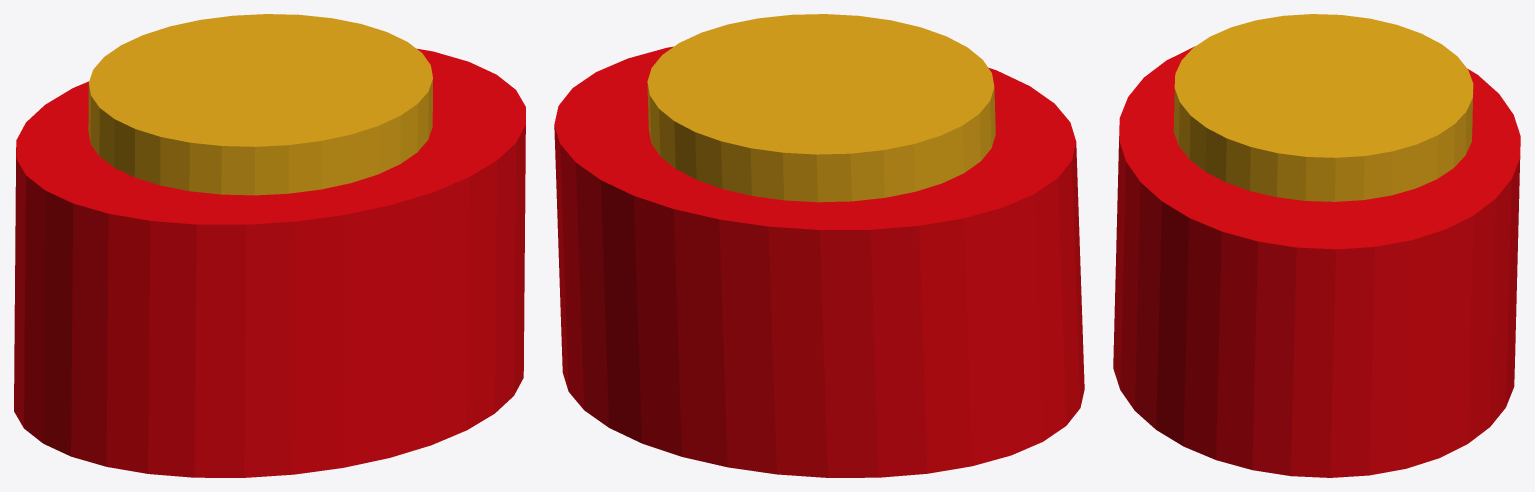
Rendered from sausModel.gltf.
3 views of the same model, side by side, from view 1: azimuth 30°, elevation 25°; view 2: azimuth 150°, elevation 25°; view 3: azimuth 270°, elevation 25° (orthographic). The views are drawn at different scales.
Parts seen in each view (by area): view 1: Cylinder, Cylinder.002; view 2: Cylinder, Cylinder.002; view 3: Cylinder, Cylinder.002.
Boxes of the visible parts, x1,y1,x2,y2 form: Cylinder: (14, 48, 525, 477); Cylinder.002: (88, 14, 432, 195); Cylinder: (554, 46, 1084, 477); Cylinder.002: (647, 14, 995, 202); Cylinder: (1113, 46, 1520, 477); Cylinder.002: (1173, 14, 1473, 201).
Bounding box in the file's own units: 2.04 × 1.29 × 1.64.
